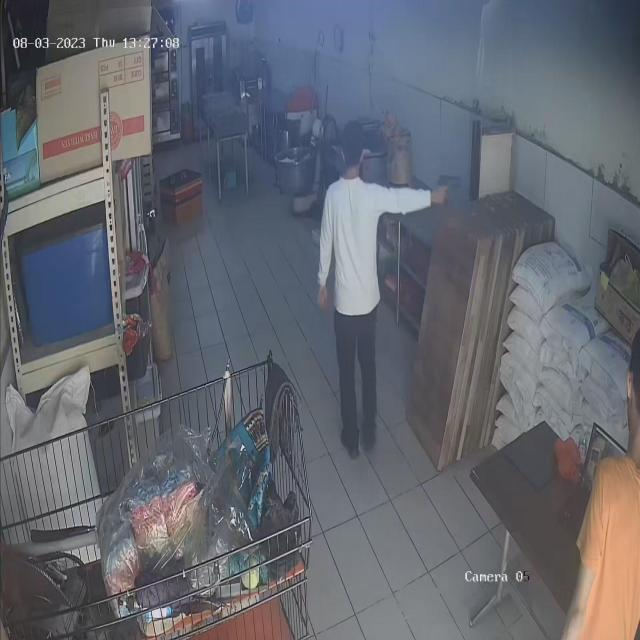Gun: (432, 161, 471, 199)
